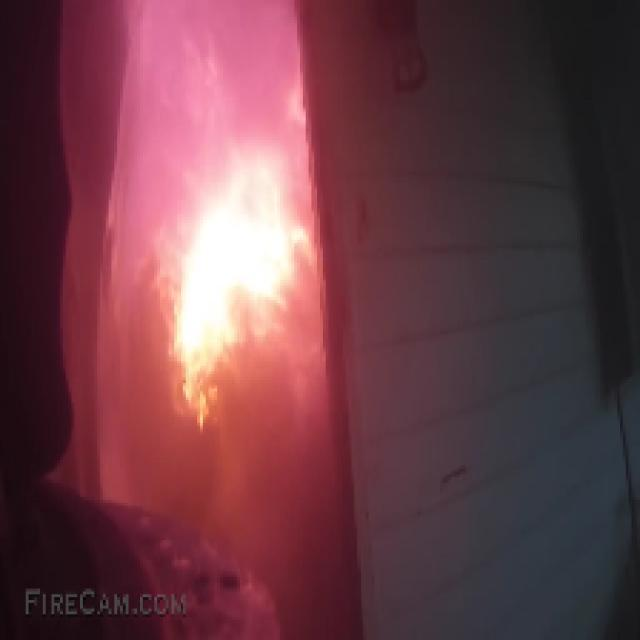Fire: (154, 80, 326, 437)
Smoke: (308, 3, 640, 266)
